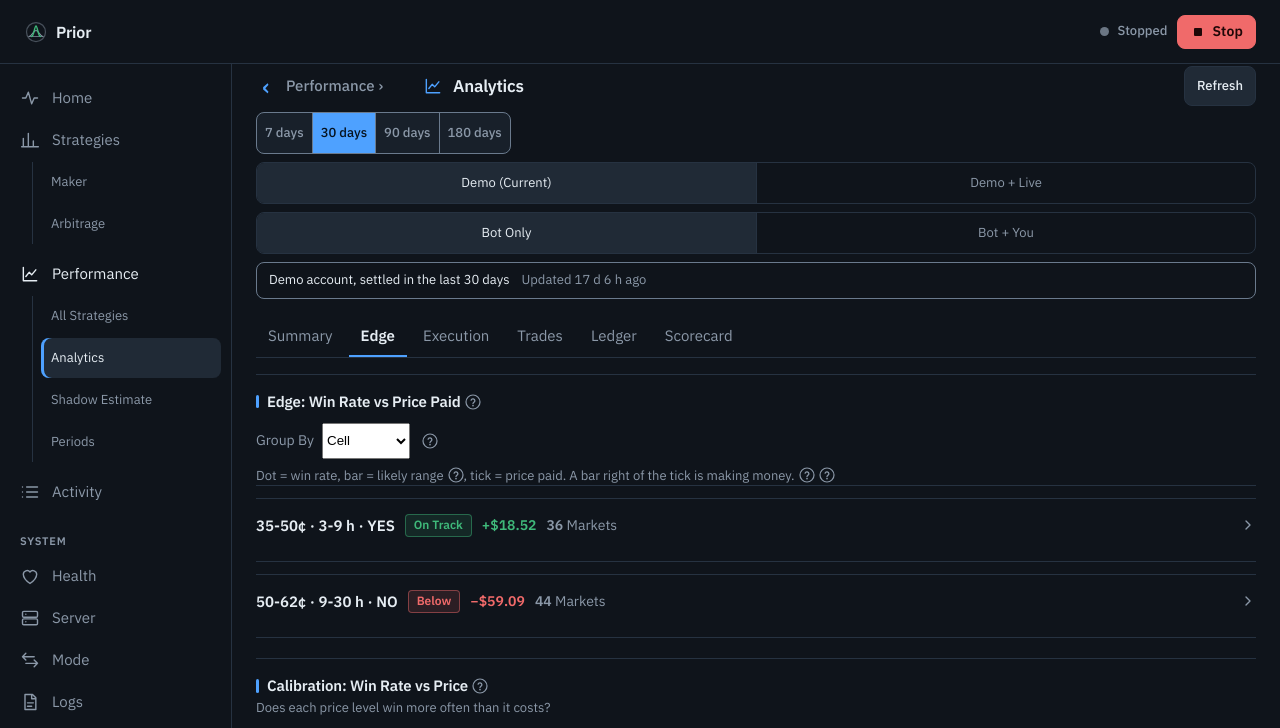
it: Analytics tabs and Edge tab › Edge picker shows one breakdown at a time
The image size is (1280, 728).
Select "Series" in the dropdown named "Group edge by" at (366, 441), box [322,423,410,459]
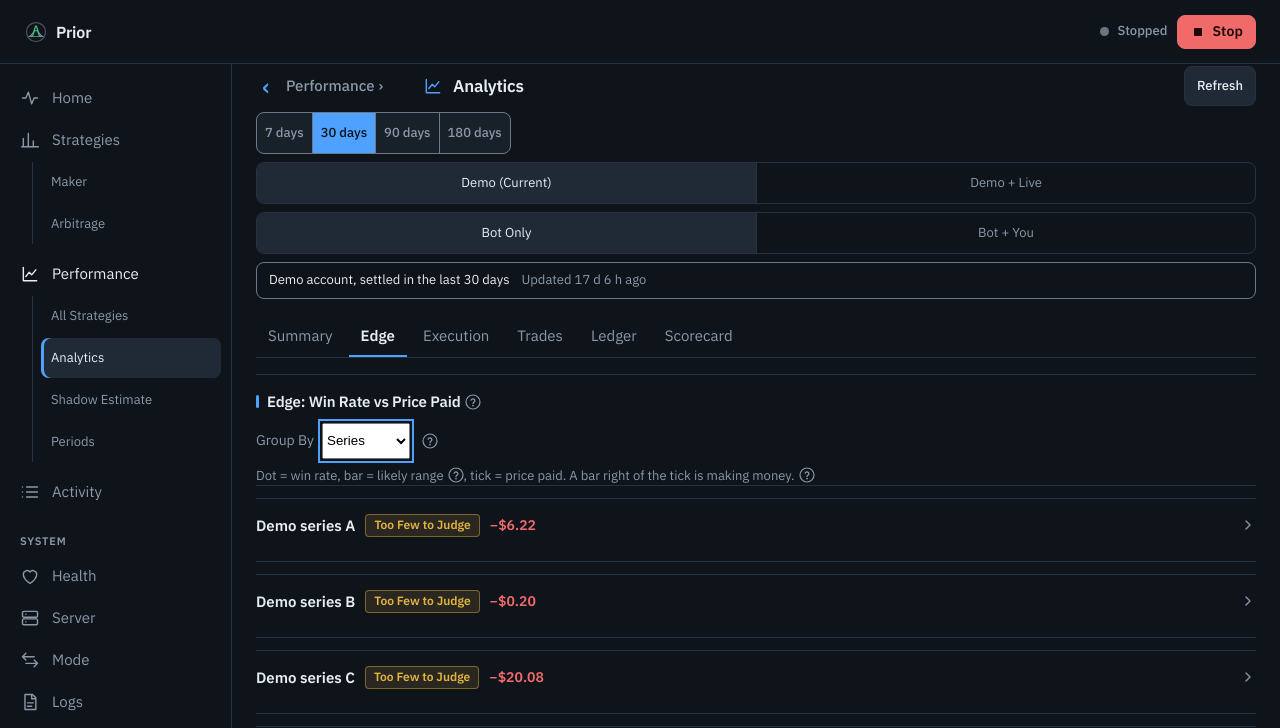
Select "Time Left" in the dropdown named "Group edge by" at (366, 441), box [322,423,410,459]
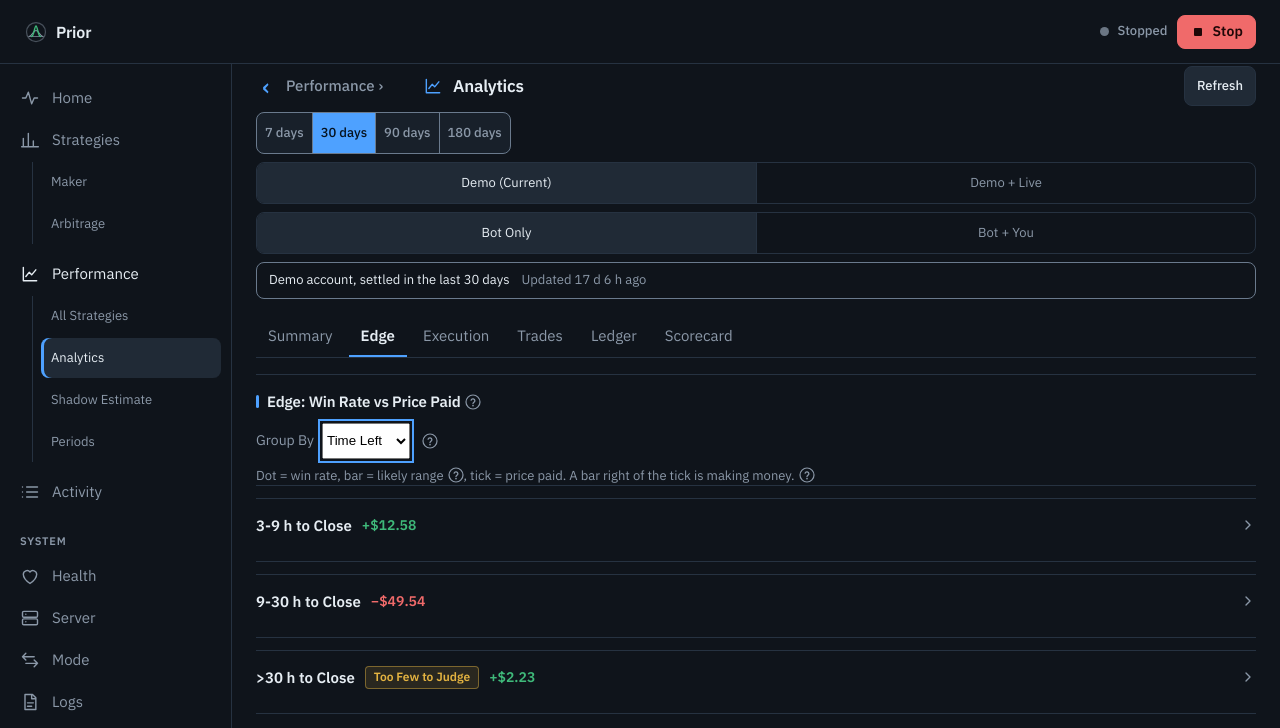
Now the panel named "Edge by time to close" is shown, box [256,485,1256,714]
